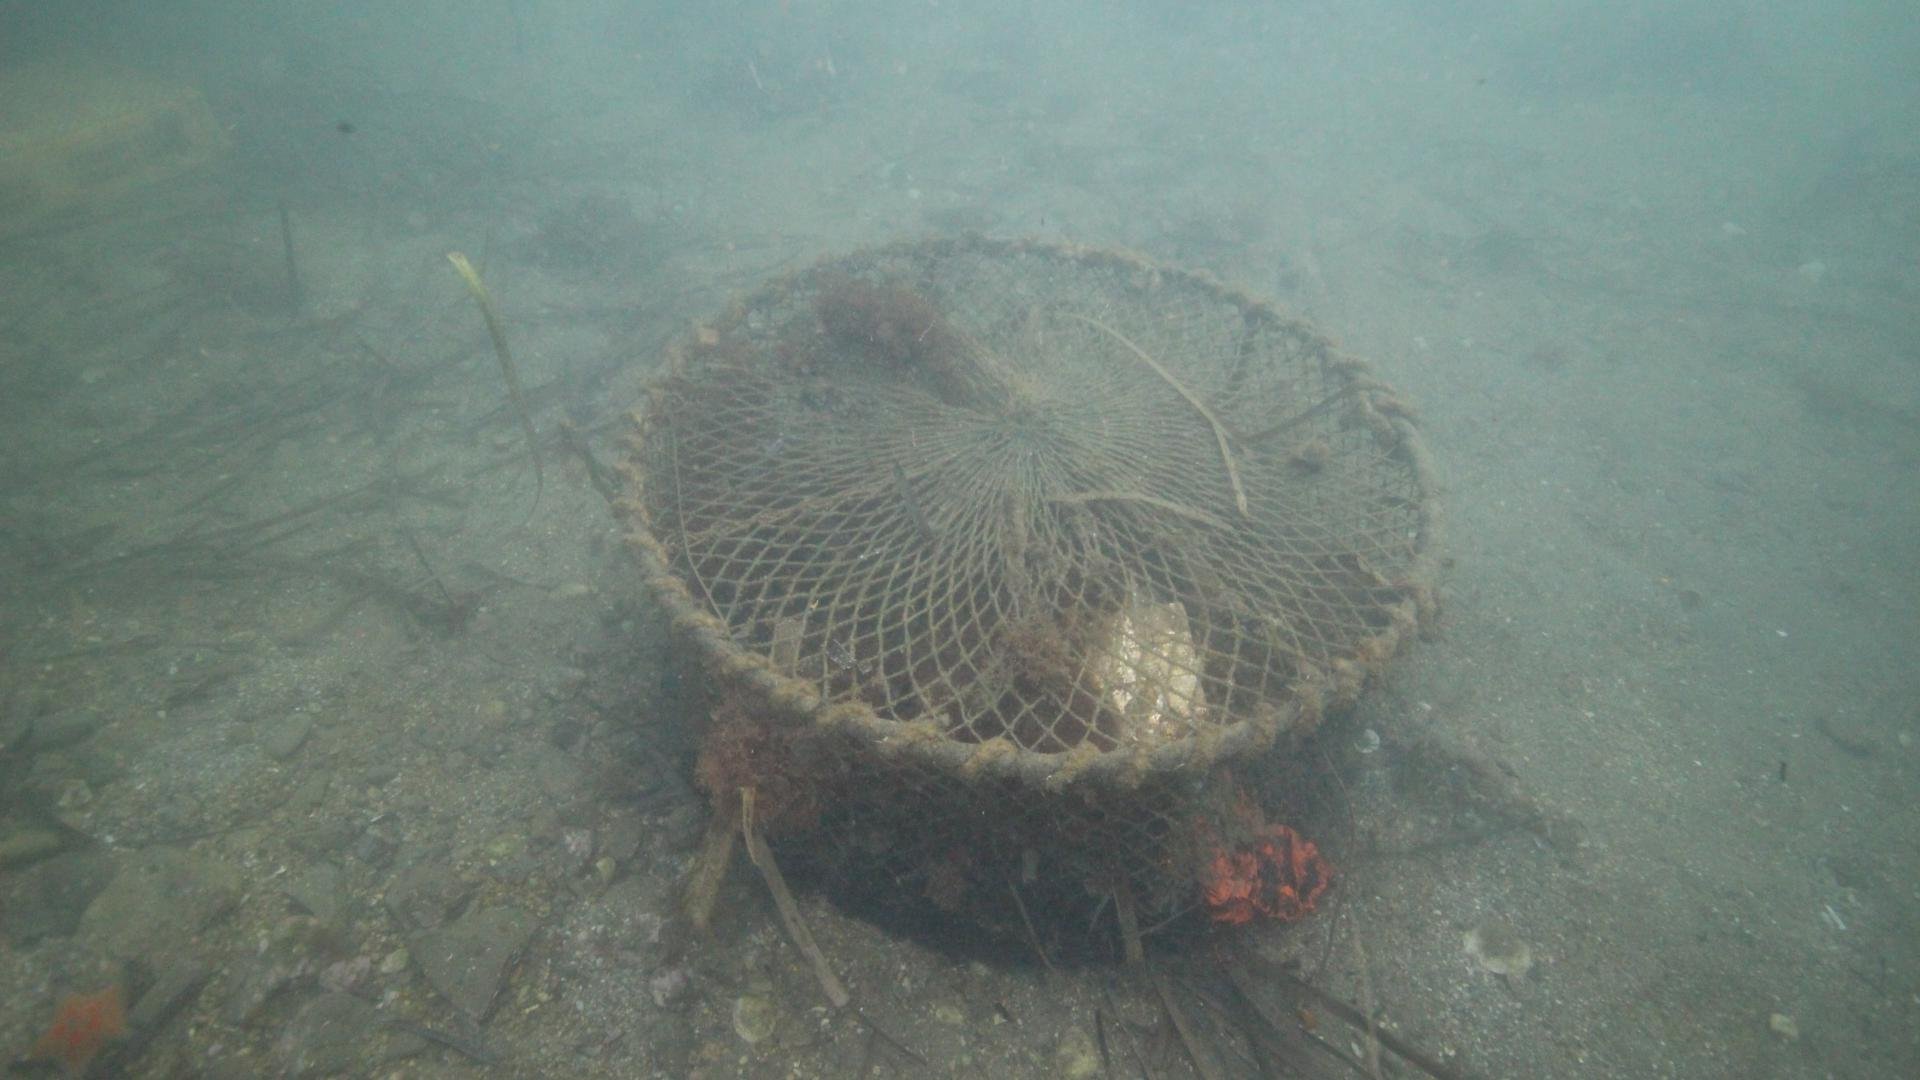circular fish trap: (608, 225, 1451, 940)
